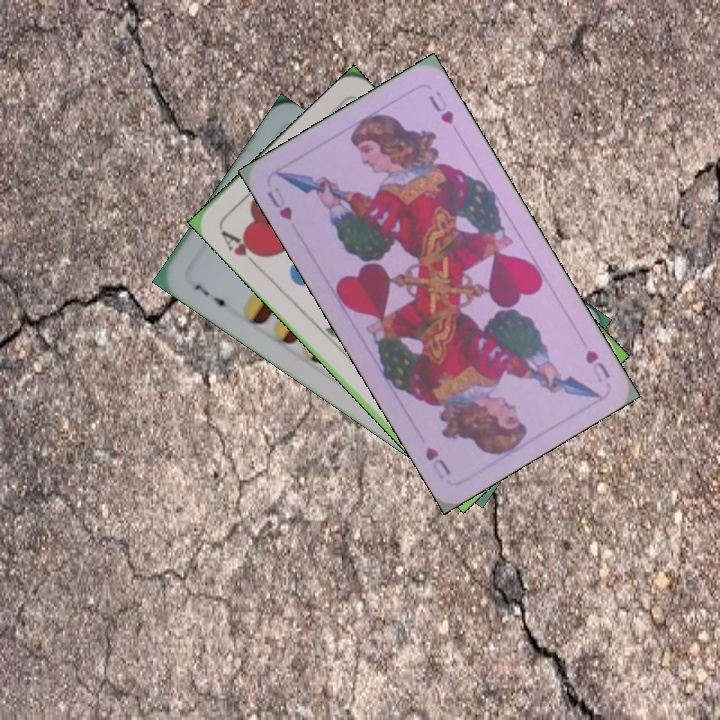E7: (190, 280, 233, 315)
HA: (217, 226, 266, 272)
HU: (262, 183, 295, 224), (581, 345, 613, 386)
